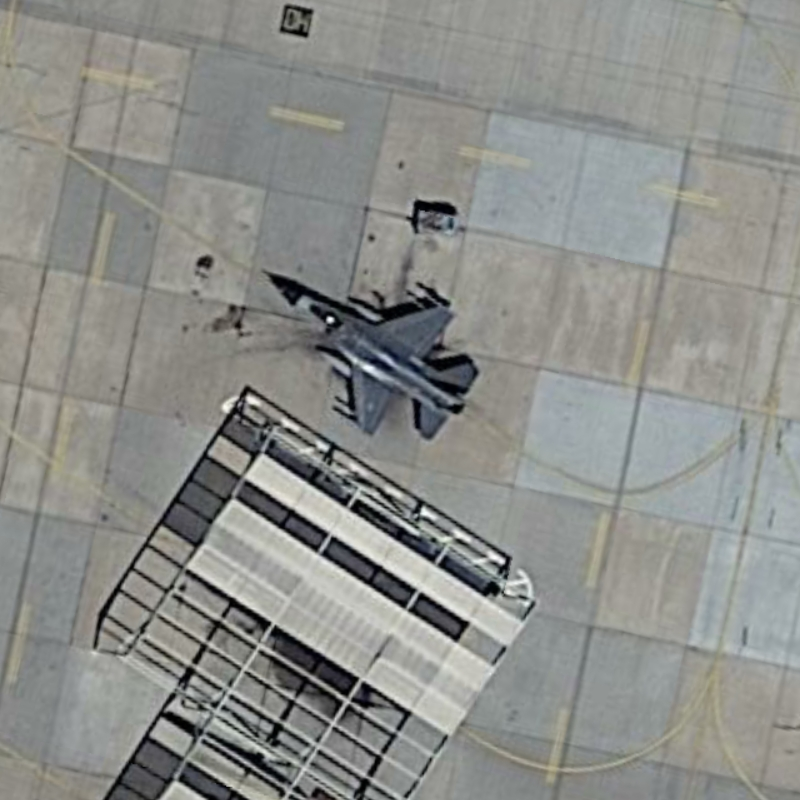A5: (254, 257, 489, 449)
